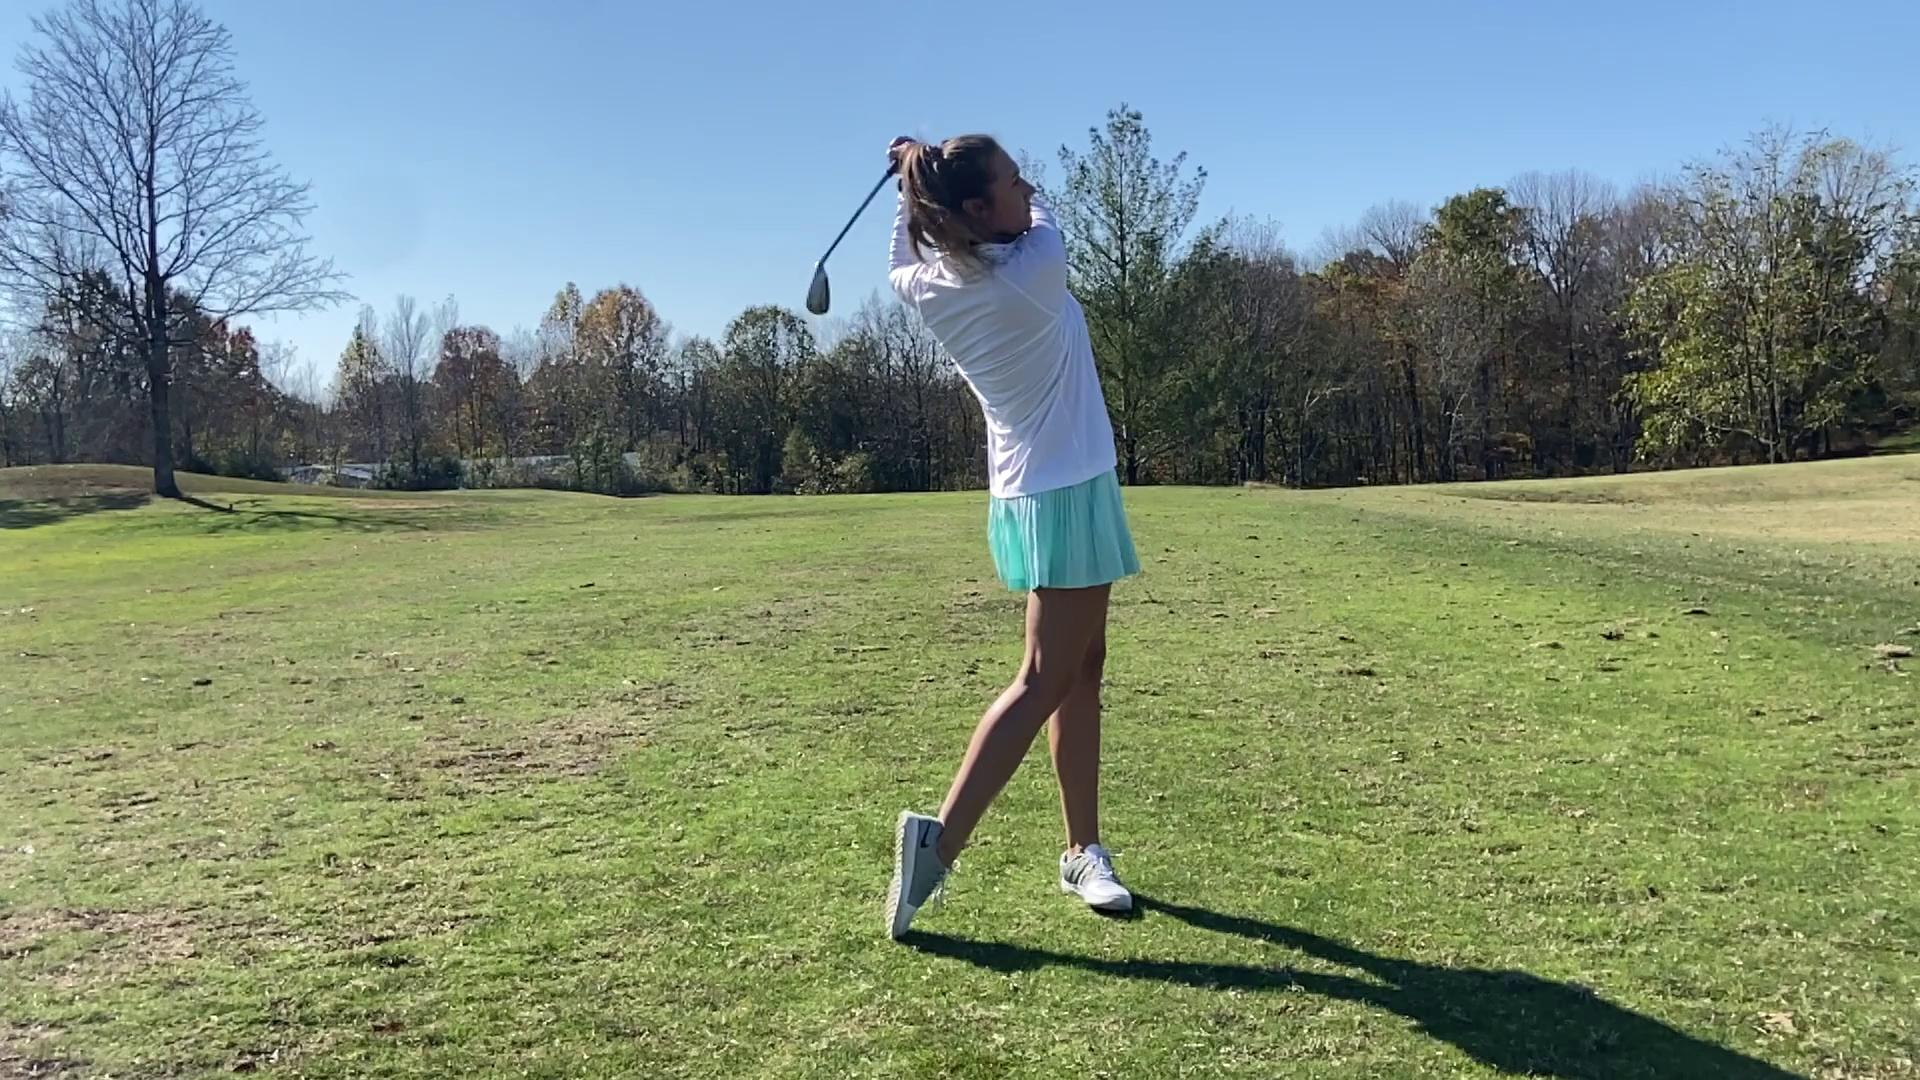ClubHead: (802, 257, 833, 319)
